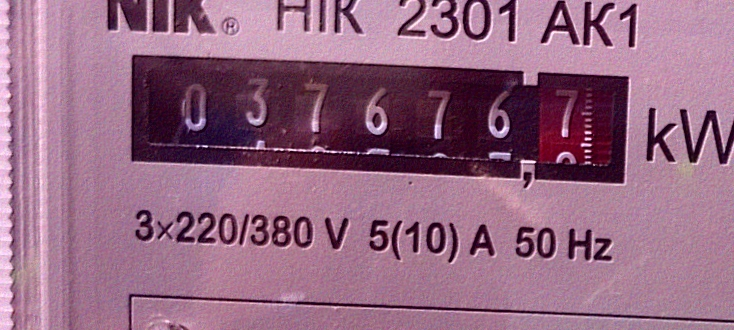0: (178, 78, 214, 134)
3: (241, 72, 271, 130)
6: (360, 82, 394, 137), (484, 86, 515, 141)
7: (422, 86, 455, 145), (299, 78, 332, 135), (552, 84, 581, 141)
screen: (112, 37, 646, 203)
